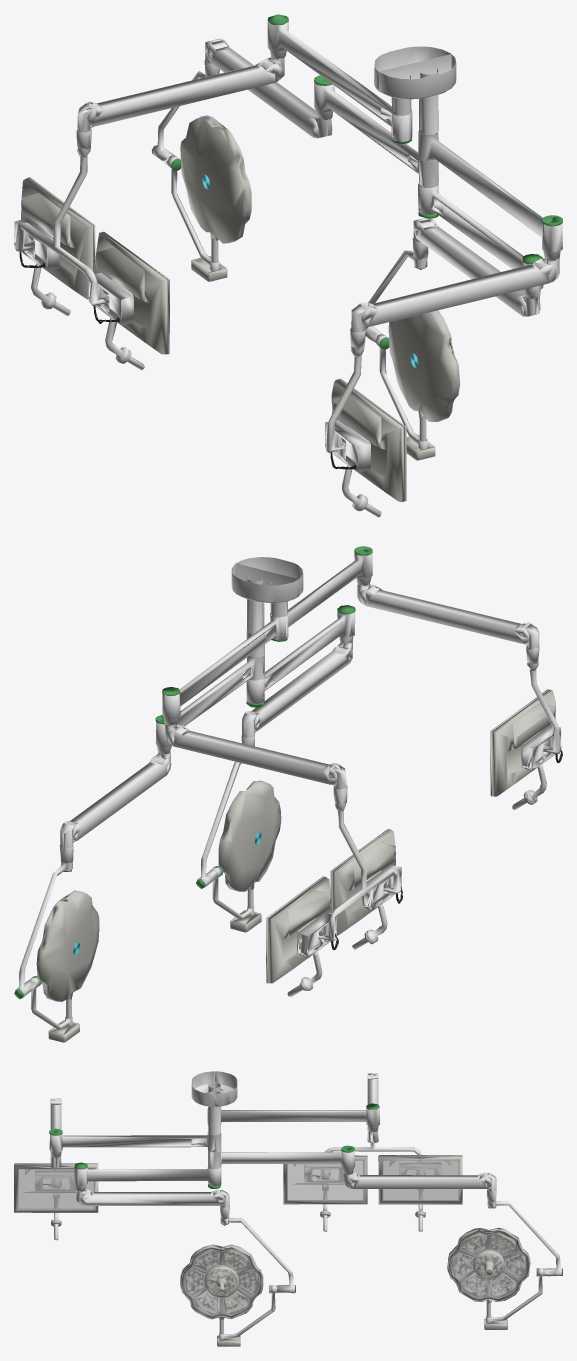
File: surgical_light.glb
The picture shows the model from 3 angles, top to bottom: view 1: azimuth 30°, elevation 25°; view 2: azimuth 150°, elevation 25°; view 3: azimuth 270°, elevation 25°; orthographic projection. The views are drawn at different scales.
Visible parts, largest first — view 1: body; view 2: body; view 3: body.
Boxes of the visible parts, <box> form: body: <box>14,14,562,517</box>; body: <box>14,546,562,1042</box>; body: <box>14,1071,562,1346</box>.
Size of the model in its own units: 1.49 by 2.05 by 3.96.
